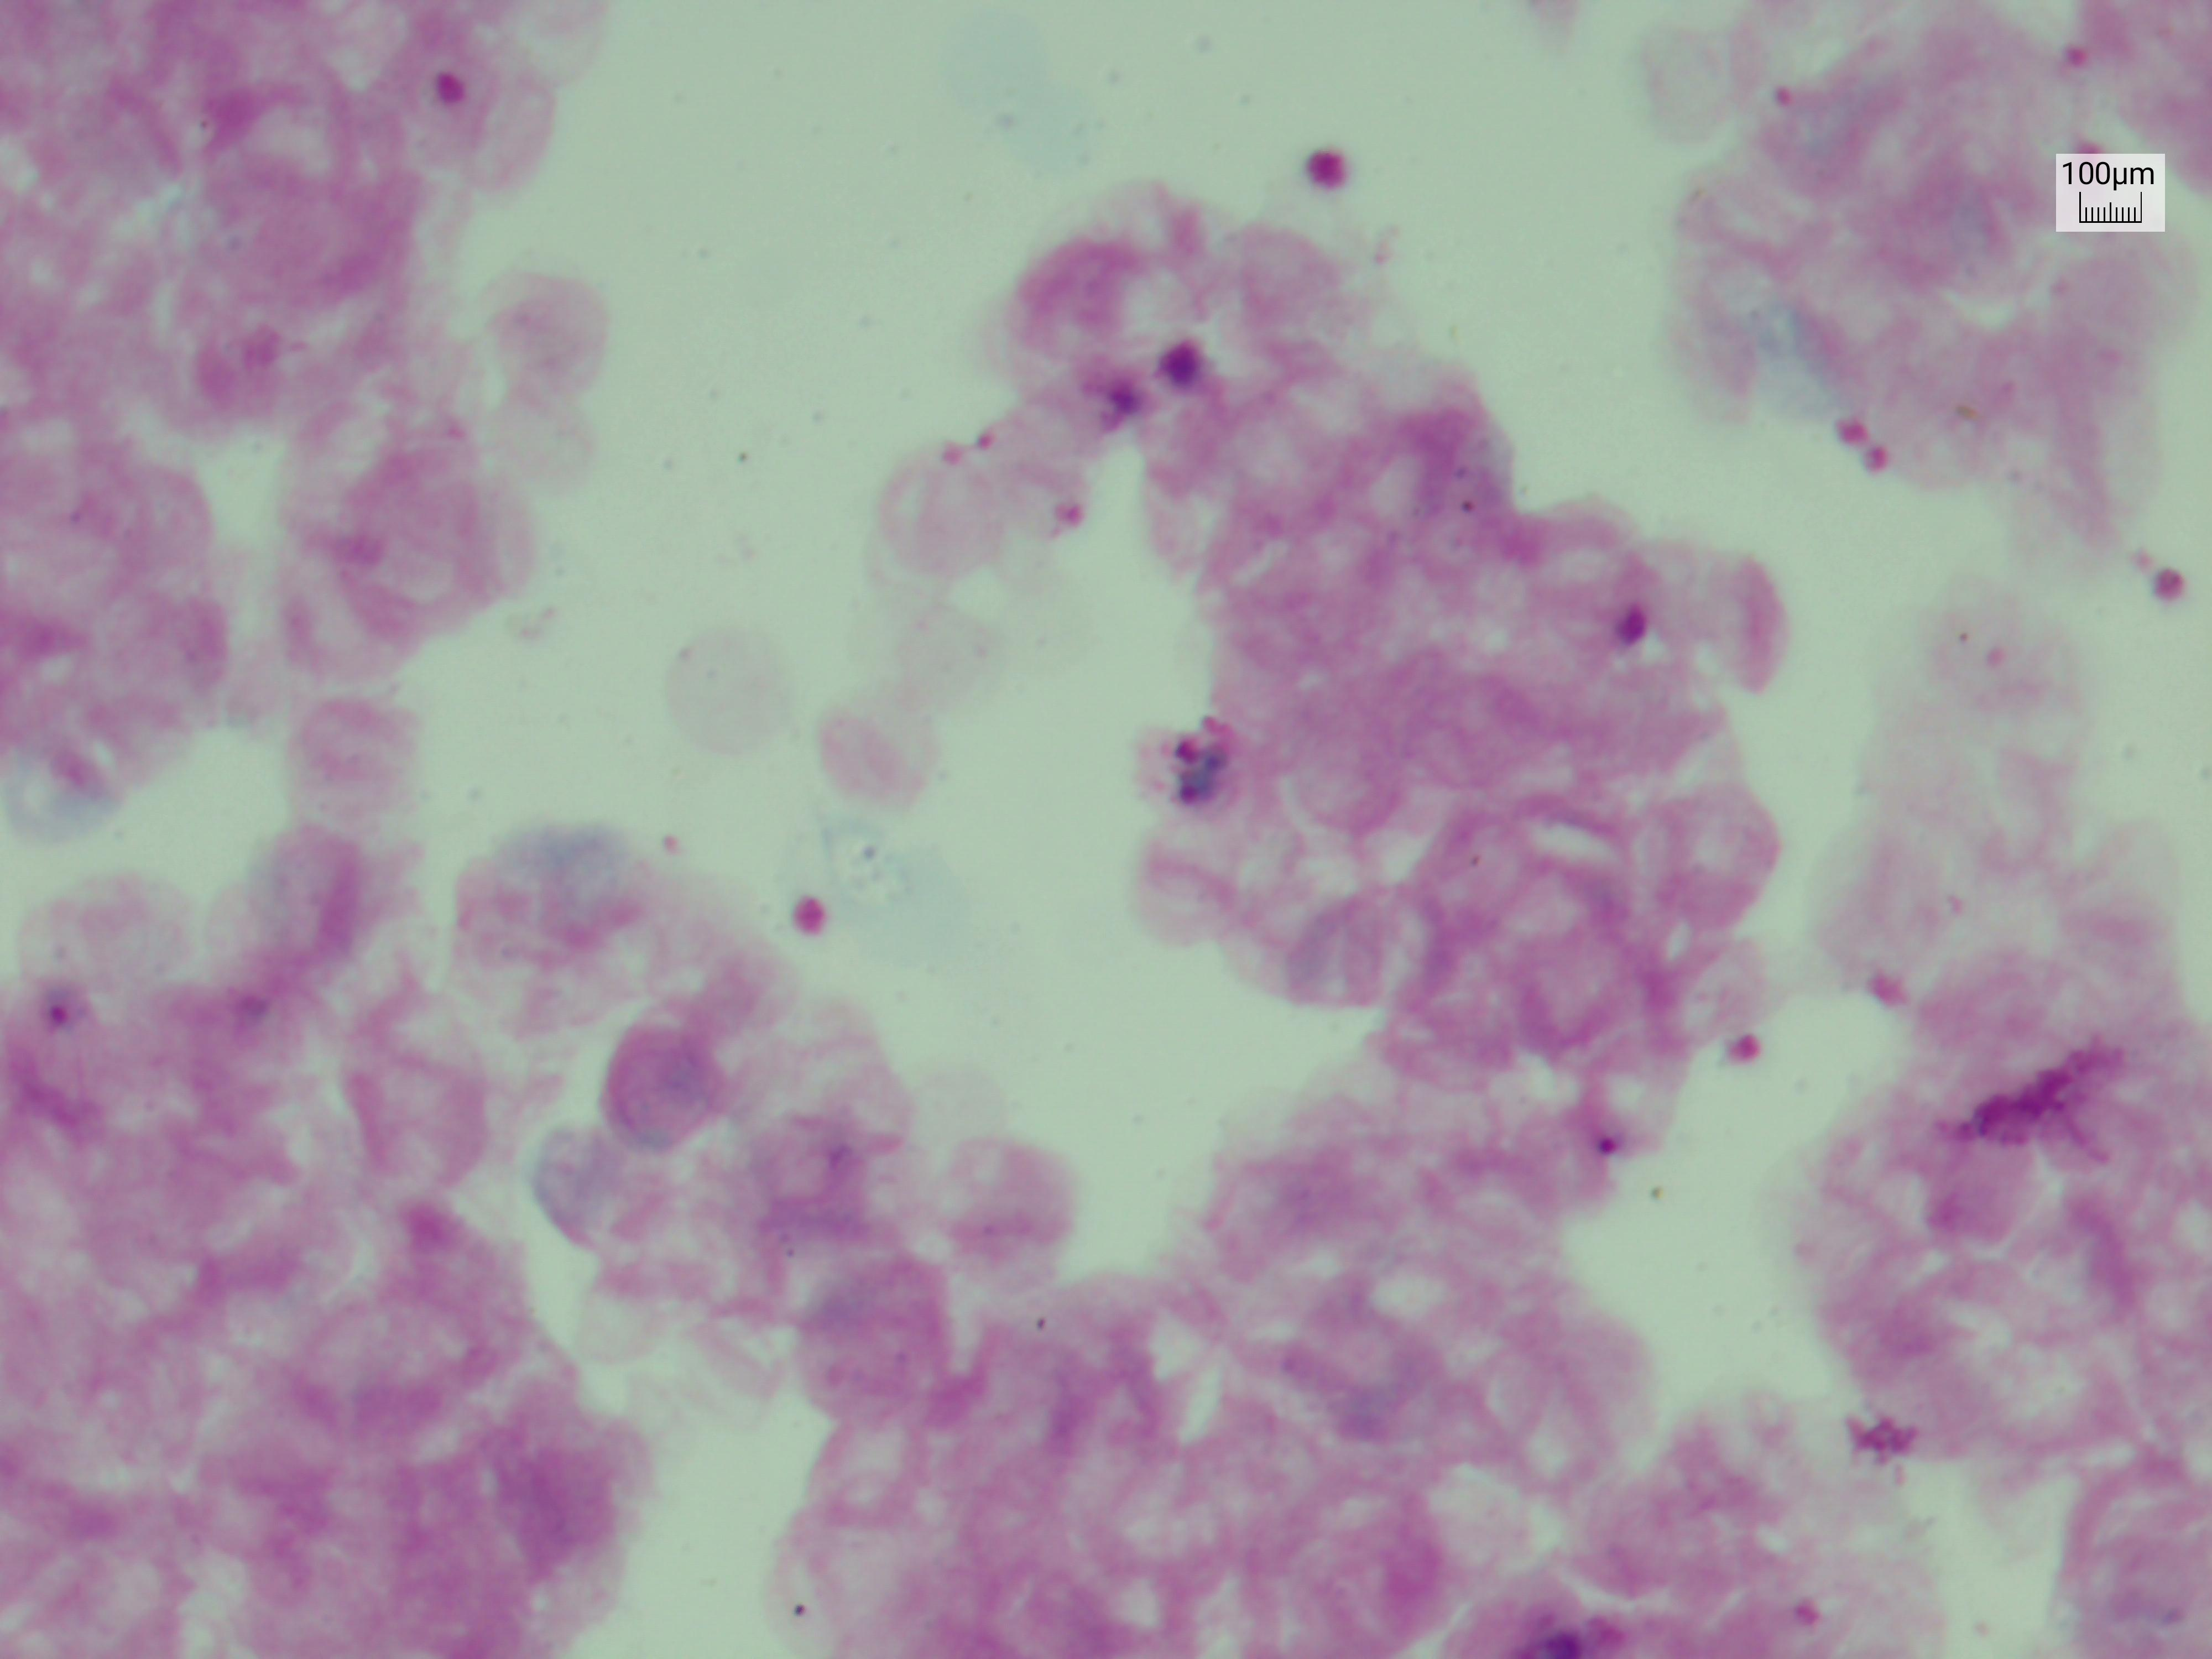p.vivax: (1150, 683, 1256, 836), (1050, 324, 1158, 458), (1498, 1582, 1623, 1659), (30, 976, 108, 1061)
